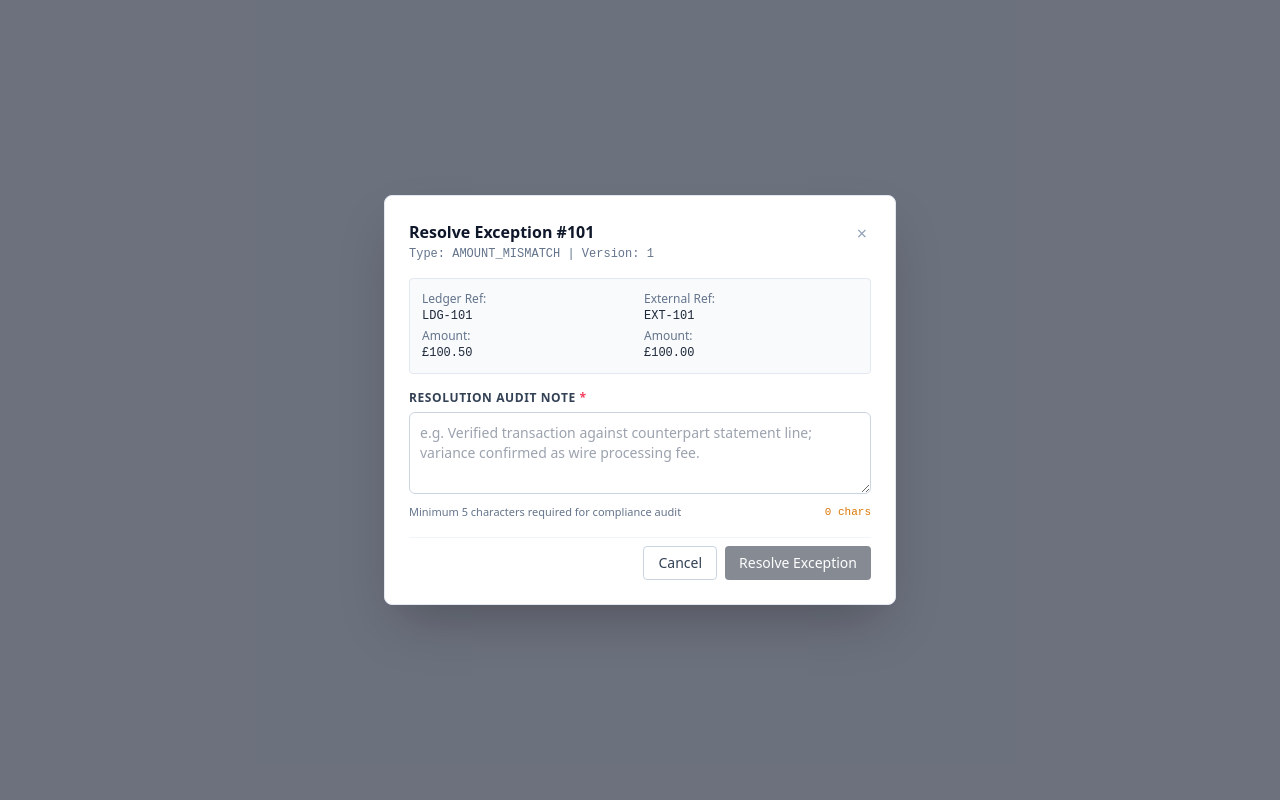
ResolveExceptionModal › validates resolution note minimum length of 5 characters
The width and height of the screenshot is (1280, 800).
Expected: the button "Resolve Exception" is disabled, [725,546,871,580]
Replace the text in the text box with placeholder "Verified transaction" with "fee": (640, 453) [409,412,871,494]
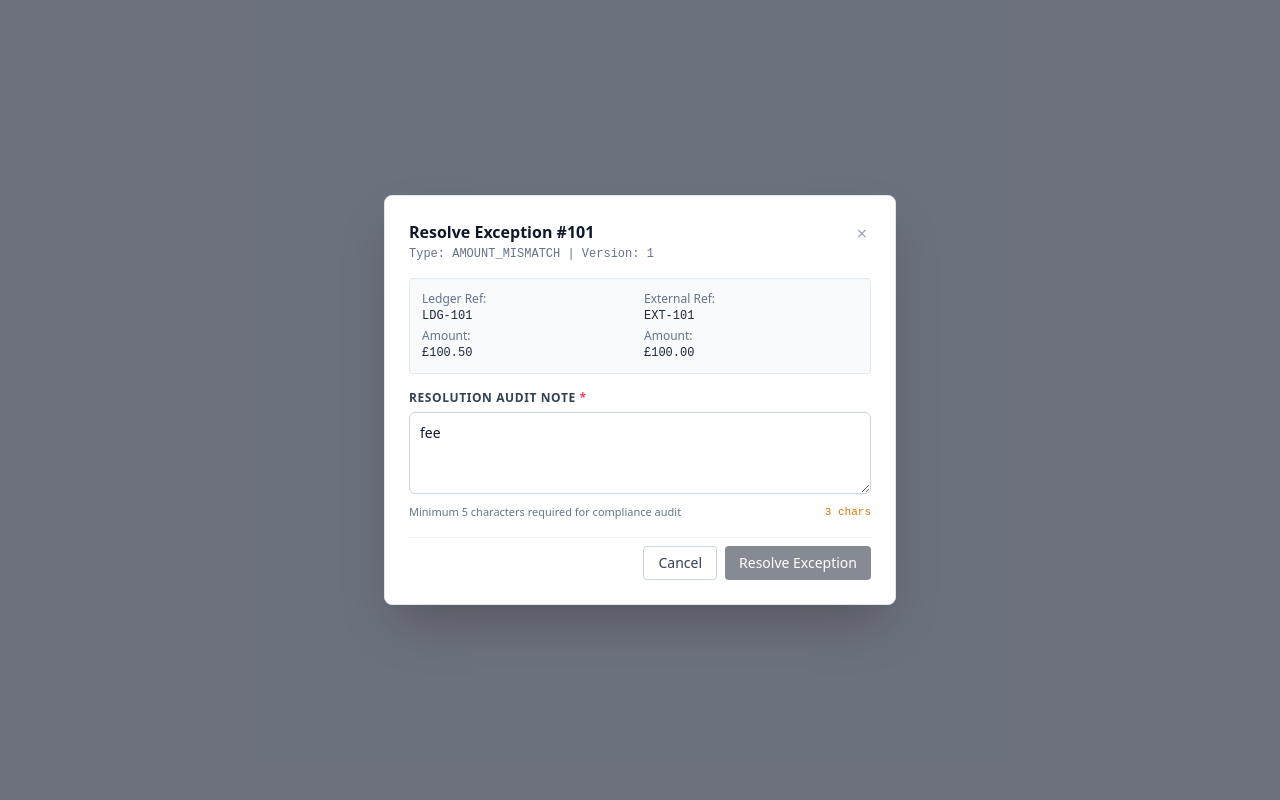
Expected: the button "Resolve Exception" is disabled, [725,546,871,580]
Replace the text in the text box with placeholder "Verified transaction" with "Valid audit resolution note": (640, 453) [409,412,871,494]
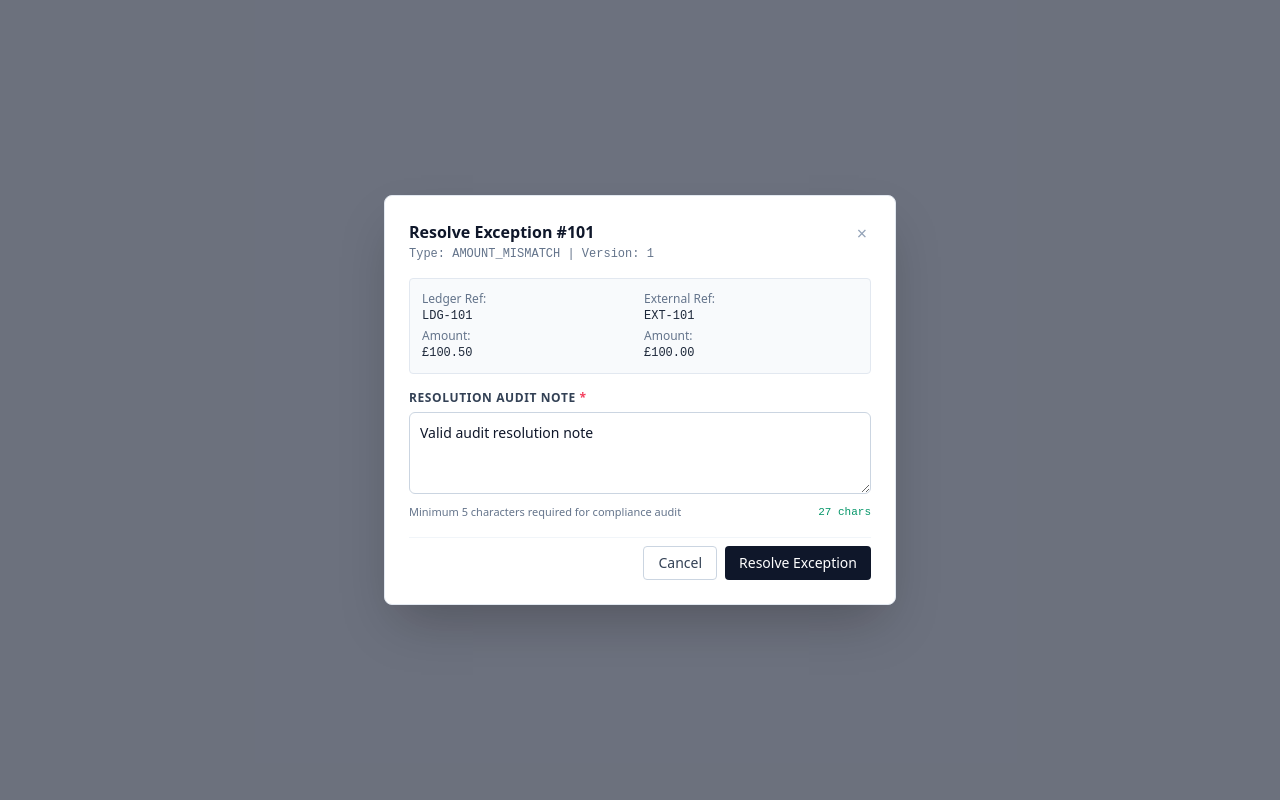
Result: the button "Resolve Exception" is enabled at [725,546,871,580]
